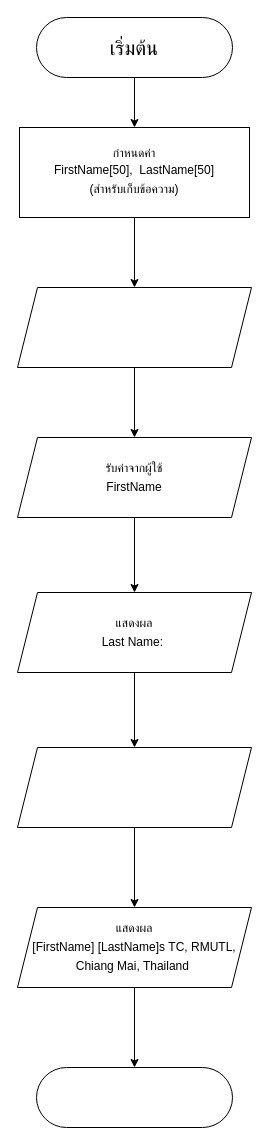
The diagram is 269 pixels wide and 1145 high, and some of its shapes have lost their labels. The shapes that lost their labels are listed below. From the top down, each one's centre as x and y in pixels, then its label:
the point at 134,327: แสดงผล First Name:
the point at 134,787: รับค่าจากผู้ใช้ LastName
the point at 134,1097: สิ้นสุด
